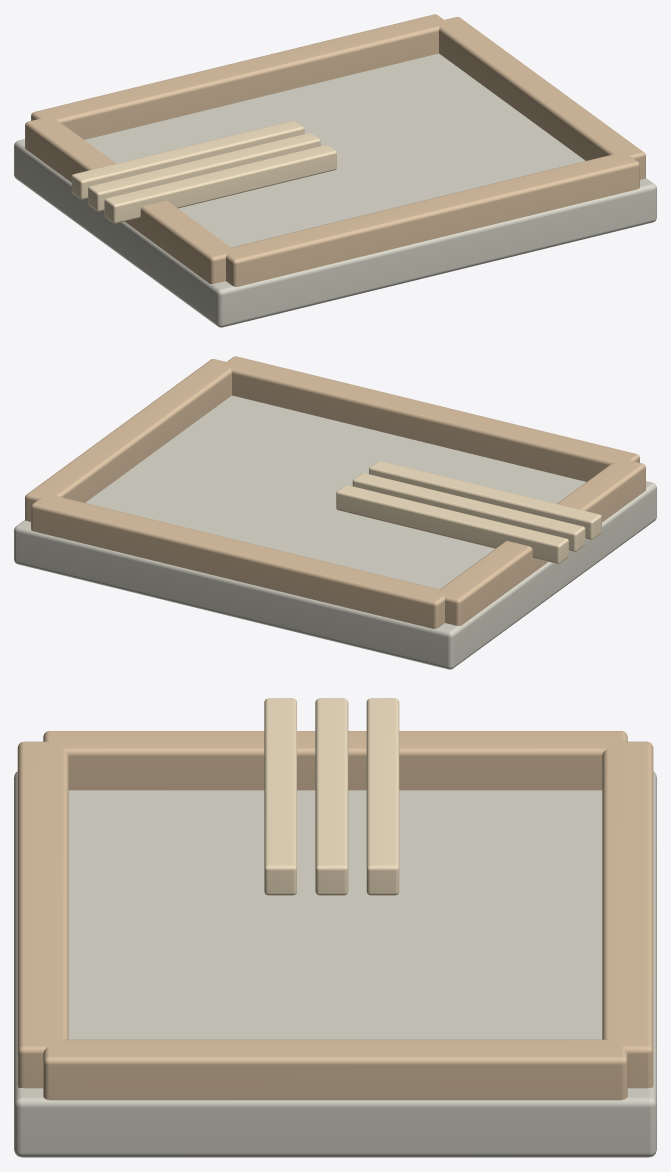
File: feed-store-foundation.glb
3 views of the same model, one above another, from view 1: azimuth 30°, elevation 25°; view 2: azimuth 150°, elevation 25°; view 3: azimuth 270°, elevation 25° (orthographic). The views are drawn at different scales.
Visible parts, largest first — view 1: Rounded stone footing.008, Sill beam.032, Sill beam.033, Sill beam.035, Sill beam.034, Staged lumber.006, Staged lumber.008, Staged lumber.007; view 2: Rounded stone footing.008, Sill beam.033, Sill beam.032, Sill beam.035, Sill beam.034, Staged lumber.008, Staged lumber.007, Staged lumber.006; view 3: Rounded stone footing.008, Sill beam.035, Sill beam.034, Sill beam.032, Sill beam.033, Staged lumber.007, Staged lumber.008, Staged lumber.006.
Part boxes in pixels (x1=…): Rounded stone footing.008: x1=14, y1=53, x2=656, y2=327; Sill beam.032: x1=223, y1=152, x2=639, y2=286; Sill beam.033: x1=31, y1=14, x2=447, y2=139; Sill beam.035: x1=438, y1=17, x2=645, y2=179; Sill beam.034: x1=25, y1=118, x2=233, y2=283; Staged lumber.006: x1=104, y1=144, x2=336, y2=223; Staged lumber.008: x1=71, y1=120, x2=304, y2=199; Staged lumber.007: x1=88, y1=132, x2=320, y2=211; Rounded stone footing.008: x1=14, y1=395, x2=656, y2=669; Sill beam.033: x1=31, y1=494, x2=447, y2=628; Sill beam.032: x1=223, y1=356, x2=639, y2=481; Sill beam.035: x1=25, y1=359, x2=233, y2=521; Sill beam.034: x1=436, y1=460, x2=645, y2=625; Staged lumber.008: x1=336, y1=485, x2=568, y2=563; Staged lumber.007: x1=352, y1=473, x2=585, y2=551; Staged lumber.006: x1=369, y1=461, x2=601, y2=539; Rounded stone footing.008: x1=14, y1=771, x2=656, y2=1157; Sill beam.035: x1=43, y1=1039, x2=627, y2=1100; Sill beam.034: x1=43, y1=731, x2=627, y2=790; Sill beam.032: x1=17, y1=741, x2=68, y2=1088; Sill beam.033: x1=602, y1=741, x2=653, y2=1088; Staged lumber.007: x1=315, y1=698, x2=348, y2=895; Staged lumber.008: x1=366, y1=698, x2=399, y2=895; Staged lumber.006: x1=264, y1=698, x2=296, y2=895.
Size of the model in its own units: 2.28 by 0.335 by 1.76.
